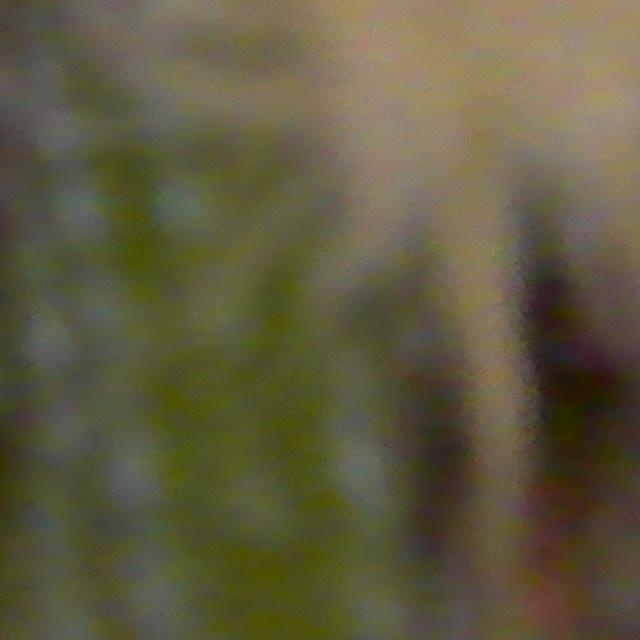SeaGrape: (47, 165, 135, 257), (148, 164, 236, 249), (15, 304, 83, 377)
